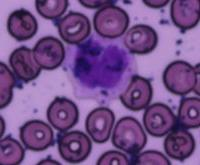N: (62, 32, 136, 101)
